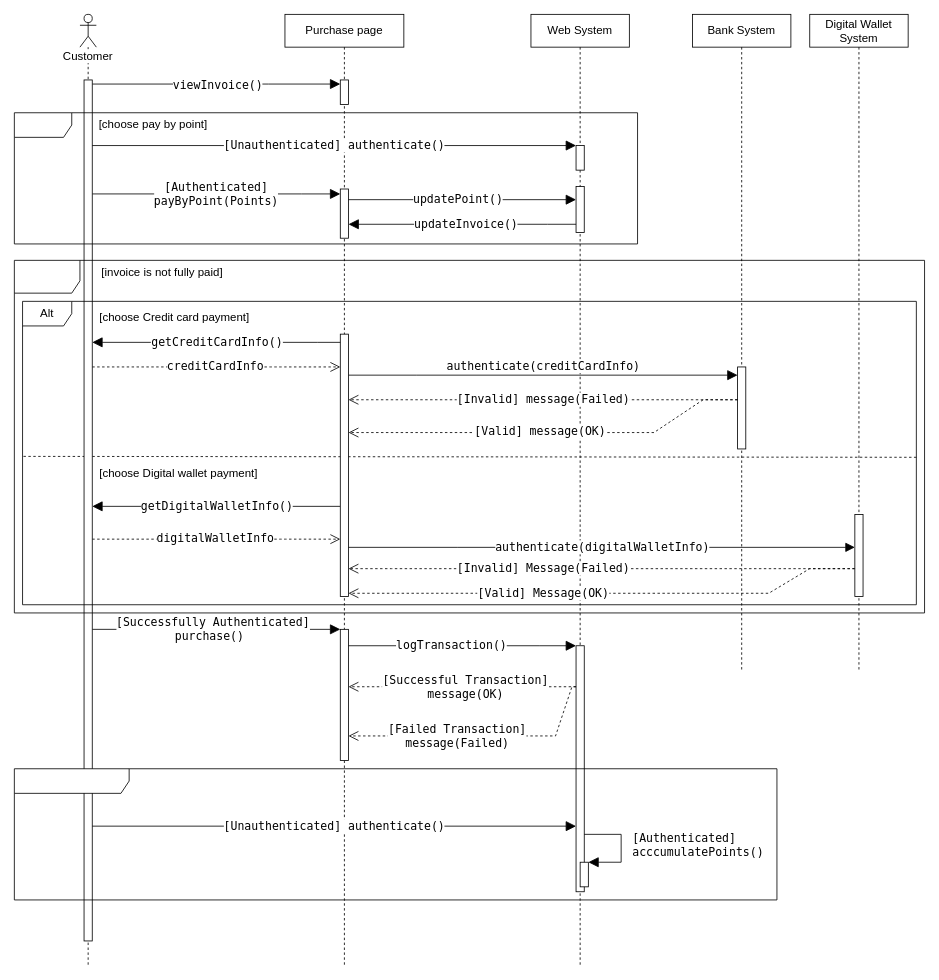
This 939x980 diagram has some shape labels left out. The centre of each missing label's shape, as x and y in pixels:
"Accumulate point" belongs at [395,834].
"External payment" belongs at [469,436].
"Optional" belongs at [326,178].
